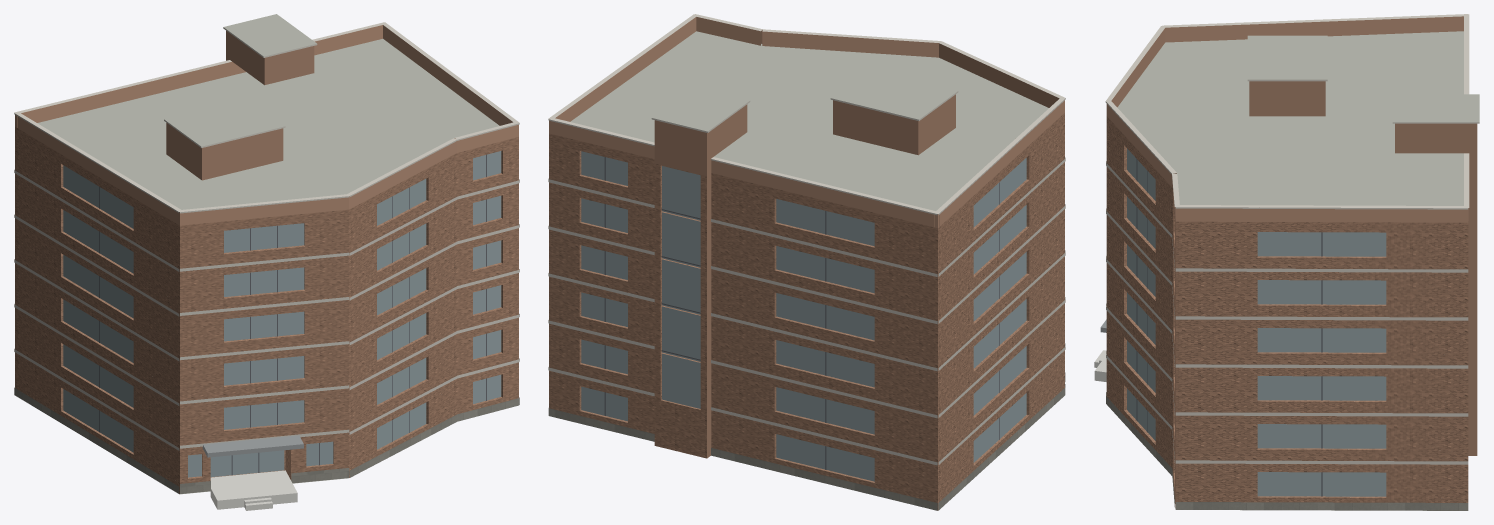
3 views of the same model, side by side, from view 1: azimuth 30°, elevation 25°; view 2: azimuth 150°, elevation 25°; view 3: azimuth 270°, elevation 25° (orthographic). The views are drawn at different scales.
Parts seen in each view (by area): view 1: shinyang4__wall, shinyang4__roof, shinyang4__glass, shinyang4__trim, shinyang4__parapet, shinyang4__wall2, shinyang4__base, shinyang4__entranceStair, shinyang4__canopy, shinyang4__frame; view 2: shinyang4__wall, shinyang4__roof, shinyang4__glass, shinyang4__trim, shinyang4__parapet, shinyang4__wall2, shinyang4__base, shinyang4__frame; view 3: shinyang4__wall, shinyang4__roof, shinyang4__glass, shinyang4__trim, shinyang4__parapet, shinyang4__wall2, shinyang4__base, shinyang4__frame.
Boxes of the visible parts, x1=… form: shinyang4__wall: x1=15, y1=127, x2=518, y2=493; shinyang4__roof: x1=37, y1=14, x2=499, y2=494; shinyang4__glass: x1=63, y1=151, x2=501, y2=477; shinyang4__trim: x1=14, y1=22, x2=519, y2=450; shinyang4__parapet: x1=15, y1=25, x2=518, y2=225; shinyang4__wall2: x1=166, y1=31, x2=314, y2=180; shinyang4__base: x1=14, y1=387, x2=519, y2=493; shinyang4__entranceStair: x1=210, y1=470, x2=297, y2=510; shinyang4__canopy: x1=202, y1=435, x2=303, y2=457; shinyang4__frame: x1=99, y1=154, x2=486, y2=475; shinyang4__wall: x1=549, y1=113, x2=1064, y2=510; shinyang4__roof: x1=570, y1=31, x2=1048, y2=210; shinyang4__glass: x1=581, y1=151, x2=1026, y2=481; shinyang4__trim: x1=548, y1=14, x2=1065, y2=465; shinyang4__parapet: x1=549, y1=17, x2=1064, y2=228; shinyang4__wall2: x1=654, y1=94, x2=955, y2=458; shinyang4__base: x1=548, y1=384, x2=1065, y2=510; shinyang4__frame: x1=604, y1=157, x2=999, y2=469; shinyang4__wall: x1=1106, y1=116, x2=1468, y2=507; shinyang4__roof: x1=1117, y1=31, x2=1479, y2=510; shinyang4__glass: x1=1127, y1=148, x2=1386, y2=496; shinyang4__trim: x1=1105, y1=14, x2=1479, y2=464; shinyang4__parapet: x1=1106, y1=16, x2=1468, y2=222; shinyang4__wall2: x1=1249, y1=81, x2=1477, y2=455; shinyang4__base: x1=1106, y1=392, x2=1468, y2=510; shinyang4__frame: x1=1136, y1=159, x2=1322, y2=496.
Bounding box in the file's own units: 31.25 × 25.61 × 26.17.
11 materials, 2 textured.
